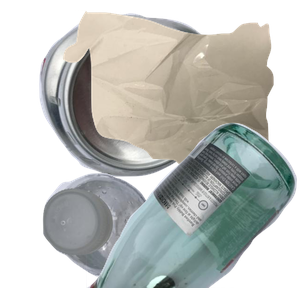glass: (86, 120, 300, 300)
metal: (37, 11, 261, 180)
plastic: (40, 170, 187, 300)
trash: (61, 10, 300, 190)
